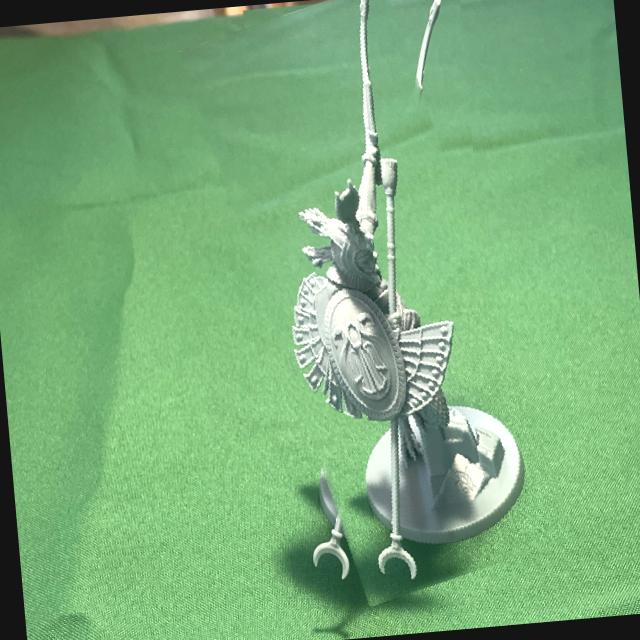isis: (208, 0, 543, 606)
